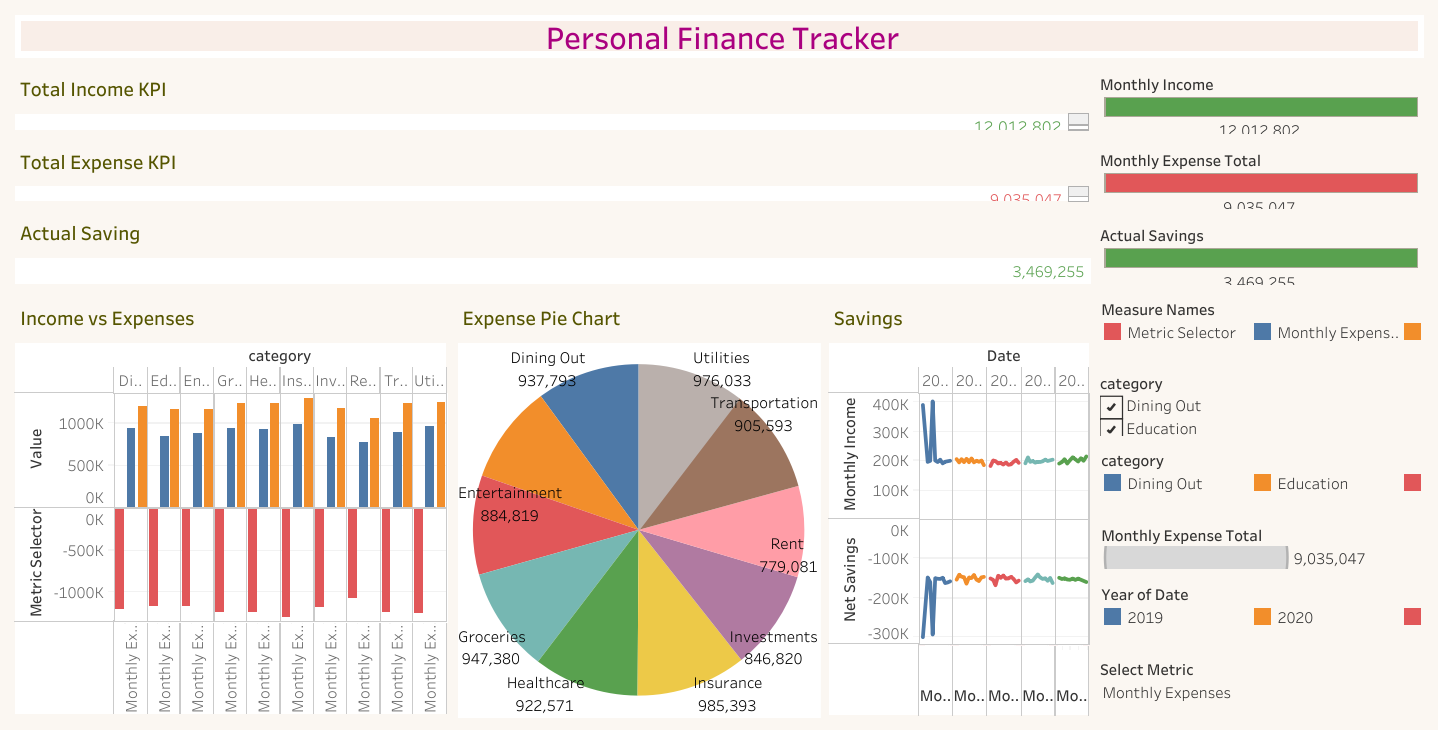

Layout of this report page (visuals, bound fields, positions):
{"tool":"tableau","page":{"name":" Personal Finance Tracker","canvas":[1000,1000],"units":"permille","ordinal":0},"visuals":[{"type":"title","box":[4.9,10.7,990.2,65.6]},{"type":"worksheet","title":"Total Income KPI","mark":"Automatic","box":[4.9,76.3,826.2,99.8]},{"type":"legend","title":"Total Income KPI","param":"[federated.19qrhew0q86ffl1f7tn8u0e1mkeu].[sum:monthly_income:qk]","box":[831.1,76.3,164,97.7]},{"type":"legend","title":"Total Expense KPI","param":"[federated.19qrhew0q86ffl1f7tn8u0e1mkeu].[sum:monthly_expense_total:qk]","box":[831.1,174,164,97.7]},{"type":"worksheet","title":"Total Expense KPI","mark":"Automatic","box":[4.9,176.1,826.2,99.9]},{"type":"legend","title":"Actual Saving","param":"[federated.19qrhew0q86ffl1f7tn8u0e1mkeu].[sum:actual_savings:qk]","box":[831.1,271.8,164,97.7]},{"type":"worksheet","title":"Actual Saving","mark":"Automatic","box":[4.9,276,826.2,117.3]},{"type":"legend","title":"Income vs Expenses","param":"[federated.19qrhew0q86ffl1f7tn8u0e1mkeu].[:Measure Names]","box":[831.1,369.5,164,124.5]},{"type":"worksheet","title":"Income vs Expenses","mark":"Automatic","rows":["Calculation_978970007818813444"],"cols":["category"],"box":[4.9,393.3,336.7,596]},{"type":"worksheet","title":"Expense Pie Chart","mark":"Pie","box":[341.6,393.3,282.9,596]},{"type":"worksheet","title":"Savings","mark":"Line","rows":["monthly_income","Calculation_978970007811268611"],"cols":["date","date"],"box":[624.4,393.3,206.7,596]},{"type":"legend","title":"Expense Pie Chart","param":"[federated.19qrhew0q86ffl1f7tn8u0e1mkeu].[none:category:nk]","box":[831.1,494,164,176]},{"type":"legend","title":"Expense Pie Chart","param":"[federated.19qrhew0q86ffl1f7tn8u0e1mkeu].[sum:monthly_expense_total:qk]","box":[831.1,670,164,68.3]},{"type":"legend","title":"Savings","param":"[federated.19qrhew0q86ffl1f7tn8u0e1mkeu].[yr:date:ok]","box":[831.1,738.3,164,176]},{"type":"parameter","param":"[Parameters].[Parameter 2]","box":[831.1,914.3,164,75]}]}

Visuals, with their boxes on the dashboard's canvas, which has no fixed pixel size, in thousandths of its width and height (x1, y1, x2, y2). These are canvas units, not pixel positions in the 1438x730 screenshot, which may show the page scaled, cropped or inside an application window:
title: (left=5, top=11, right=995, bottom=76)
"Total Income KPI" worksheet: (left=5, top=76, right=831, bottom=176)
"Total Income KPI" legend: (left=831, top=76, right=995, bottom=174)
"Total Expense KPI" legend: (left=831, top=174, right=995, bottom=272)
"Total Expense KPI" worksheet: (left=5, top=176, right=831, bottom=276)
"Actual Saving" legend: (left=831, top=272, right=995, bottom=370)
"Actual Saving" worksheet: (left=5, top=276, right=831, bottom=393)
"Income vs Expenses" legend: (left=831, top=370, right=995, bottom=494)
"Income vs Expenses" worksheet: (left=5, top=393, right=342, bottom=989)
"Expense Pie Chart" worksheet (Pie marks): (left=342, top=393, right=624, bottom=989)
"Savings" worksheet (Line marks): (left=624, top=393, right=831, bottom=989)
"Expense Pie Chart" legend: (left=831, top=494, right=995, bottom=670)
"Expense Pie Chart" legend: (left=831, top=670, right=995, bottom=738)
"Savings" legend: (left=831, top=738, right=995, bottom=914)
parameter: (left=831, top=914, right=995, bottom=989)
